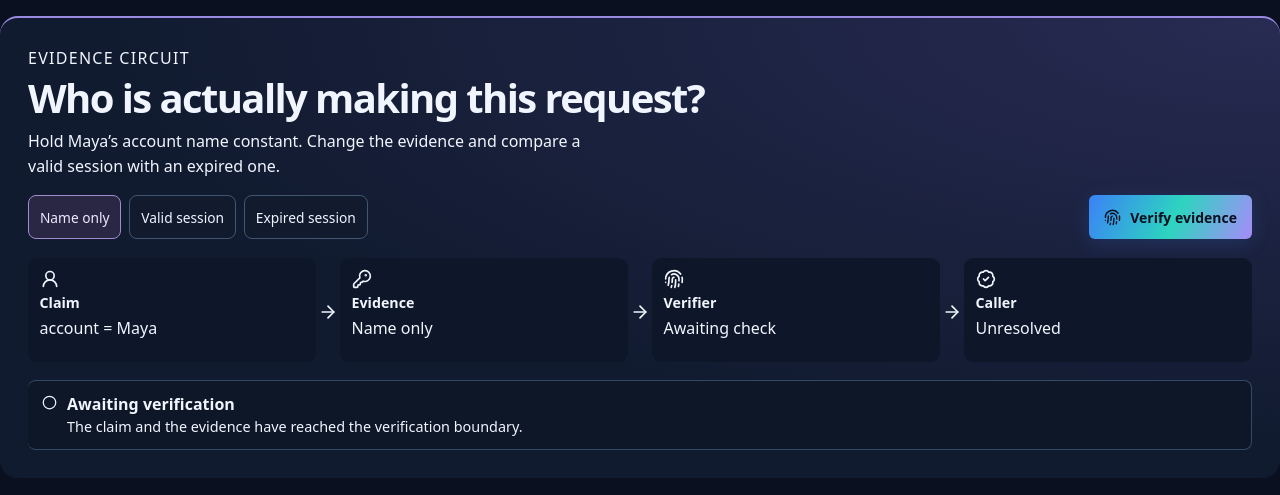
identity learning missions › requires both verification outcomes and clears the displayed decision when evidence changes
The width and height of the screenshot is (1280, 495).
What coordinates should you click on to do the following:
click the button "Verify evidence"
I would click on:
 (1171, 217)
Its box is top-left (1089, 195), bottom-right (1252, 239).
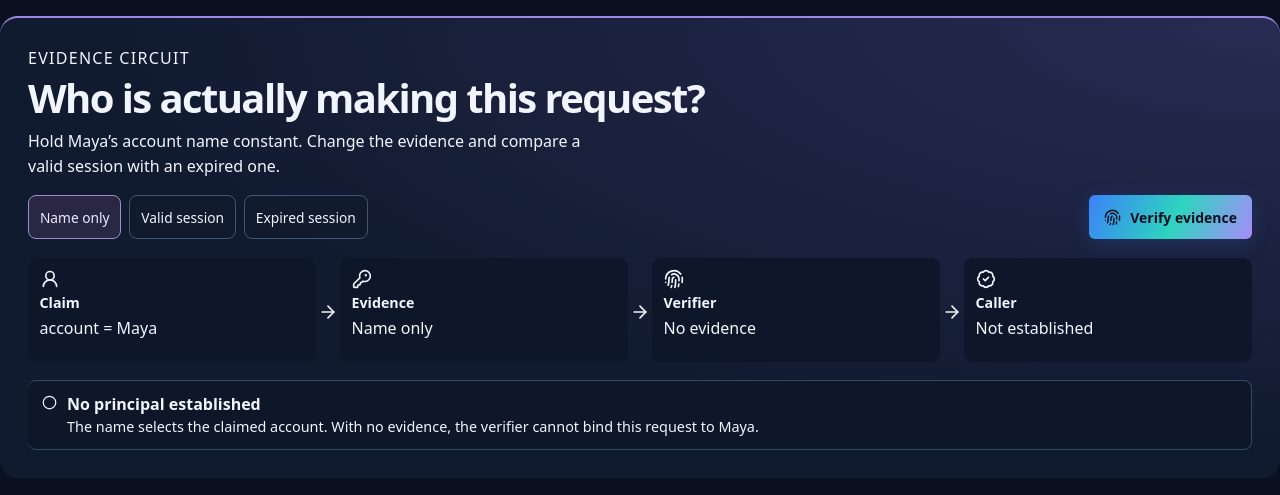
Expected: the message shows "No principal established", top-left (67, 393), bottom-right (261, 415)
What coordinates should you click on to do the following:
click the button "Valid session"
I would click on:
 (183, 217)
Its box is top-left (130, 195), bottom-right (236, 239).
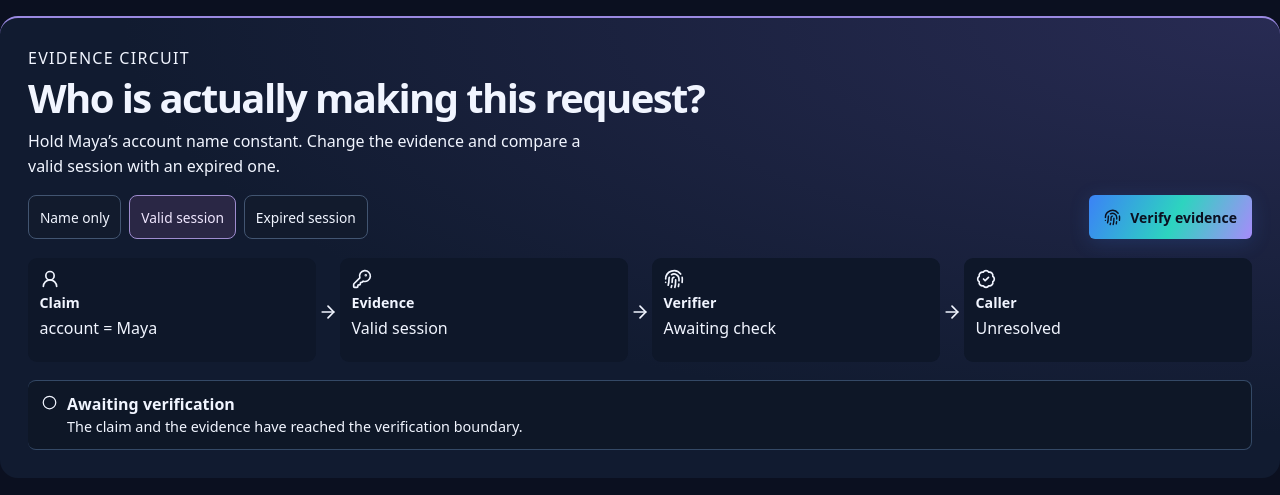
Expected: the message shows "Awaiting verification", top-left (67, 393), bottom-right (235, 415)
What coordinates should you click on to do the following:
click the button "Verify evidence"
I would click on:
 (1171, 217)
Its box is top-left (1089, 195), bottom-right (1252, 239).
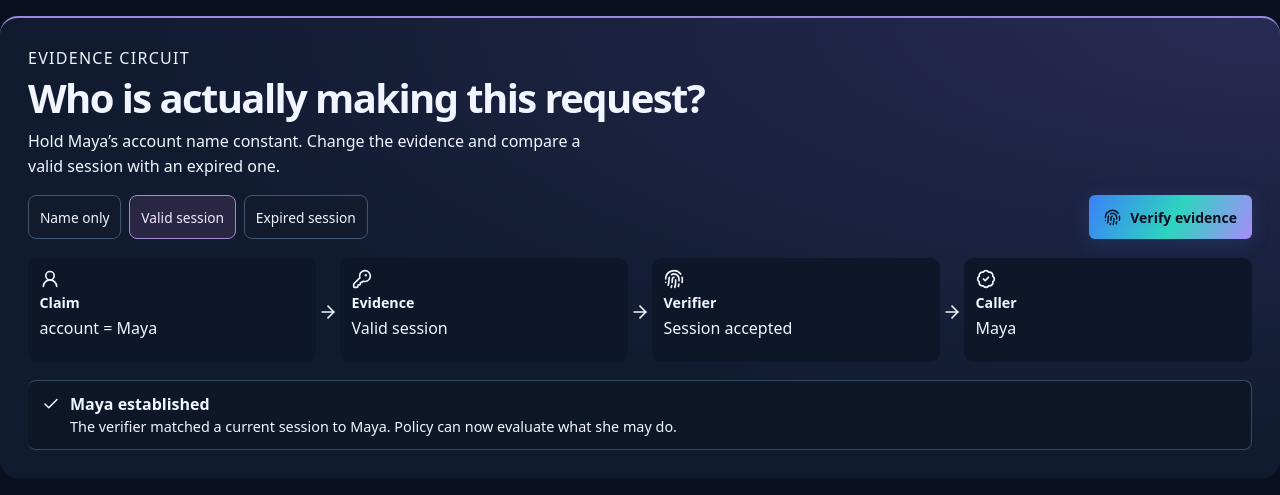
Expected: the message shows "Maya established", top-left (70, 393), bottom-right (210, 415)
What coordinates should you click on to do the following:
click the button "Expired session"
I would click on:
 (306, 217)
Its box is top-left (244, 195), bottom-right (368, 239).
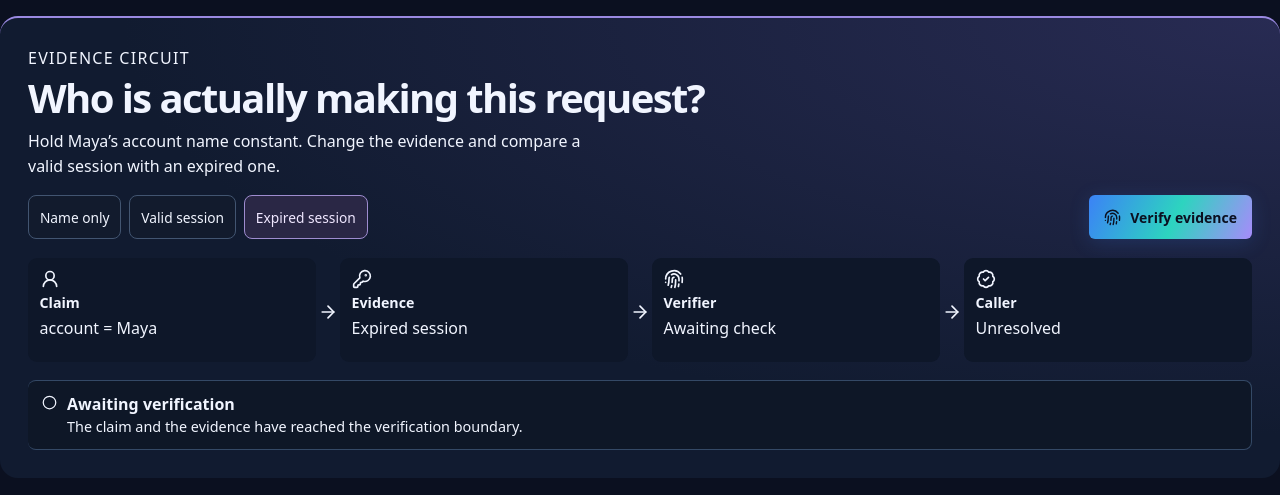
What coordinates should you click on to do the following:
click the button "Verify evidence"
I would click on:
 (1171, 217)
Its box is top-left (1089, 195), bottom-right (1252, 239).
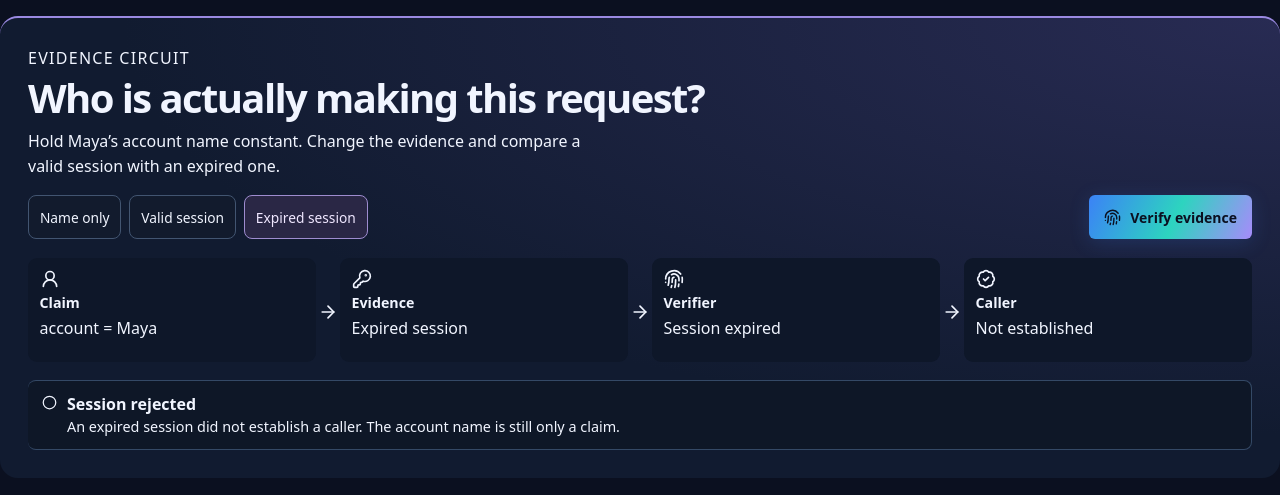
Expected: the message shows "Session rejected", top-left (67, 393), bottom-right (196, 415)
